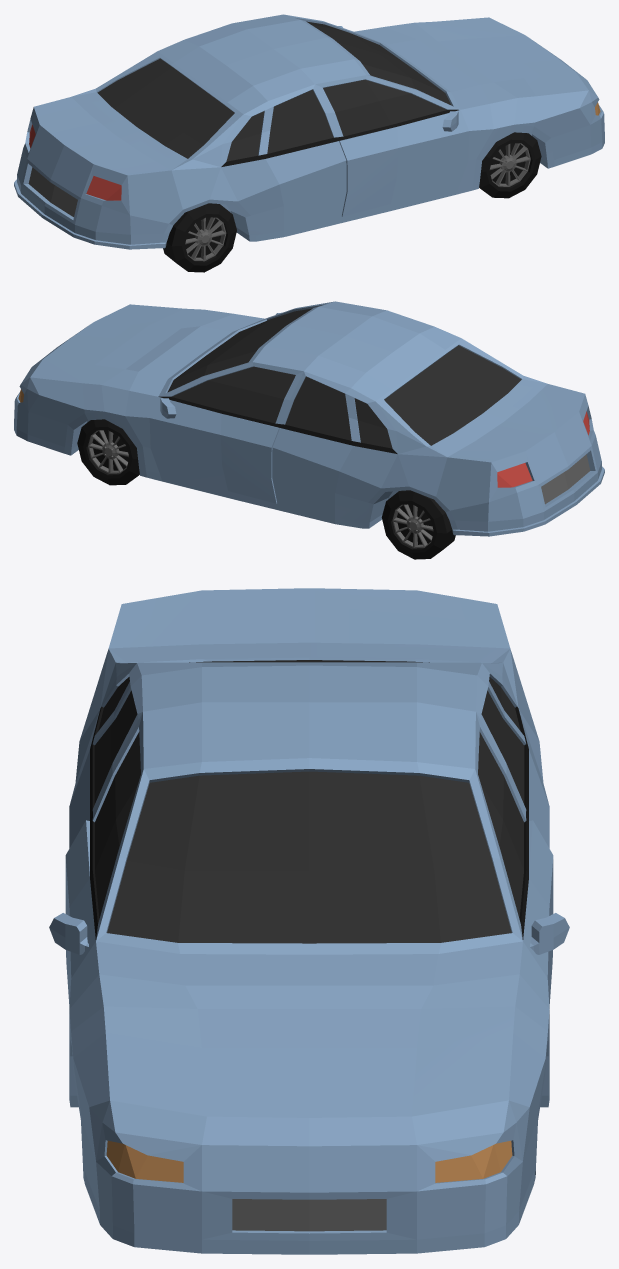
File: sedan.glb
3 renders of one model, top to bottom at view 1: azimuth 30°, elevation 25°; view 2: azimuth 150°, elevation 25°; view 3: azimuth 270°, elevation 25°, orthographic. The views are drawn at different scales.
Parts seen in each view (by area): view 1: NormalCar1; view 2: NormalCar1; view 3: NormalCar1.
Boxes of the visible parts, x1,y1,x2,y2 form: NormalCar1: [14, 14, 604, 272]; NormalCar1: [14, 301, 604, 559]; NormalCar1: [49, 588, 569, 1254].
Bounding box in the file's own units: 4.2 × 1.17 × 1.8.
